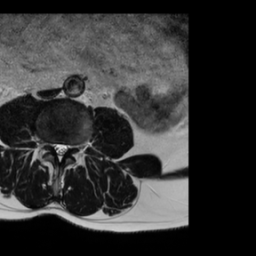CCS_normal: (57, 137, 63, 166)
LFS_severe_stenosis: (70, 138, 76, 155)
LLS_stenosis: (63, 139, 69, 158)
RFS_severe_stenosis: (45, 136, 52, 150)
RLS_stenosis: (52, 138, 57, 155)
